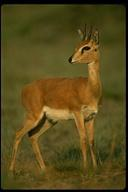antelope: (7, 22, 105, 178)
grass: (51, 143, 79, 186)
